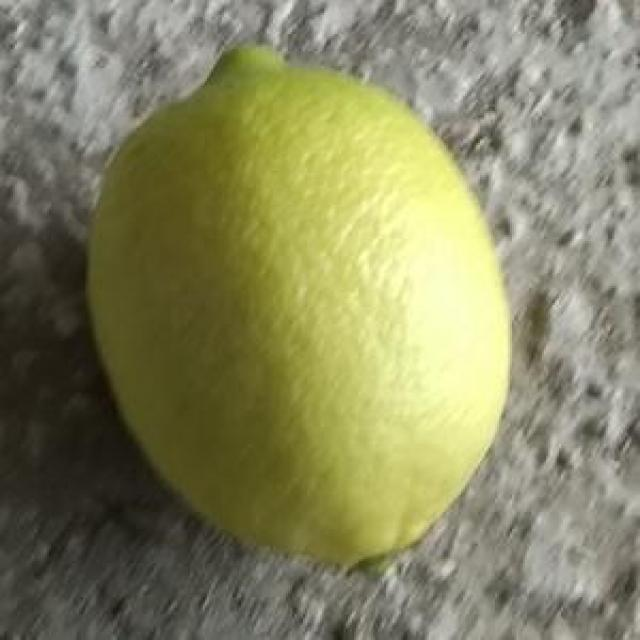lemon: (81, 46, 516, 580)
